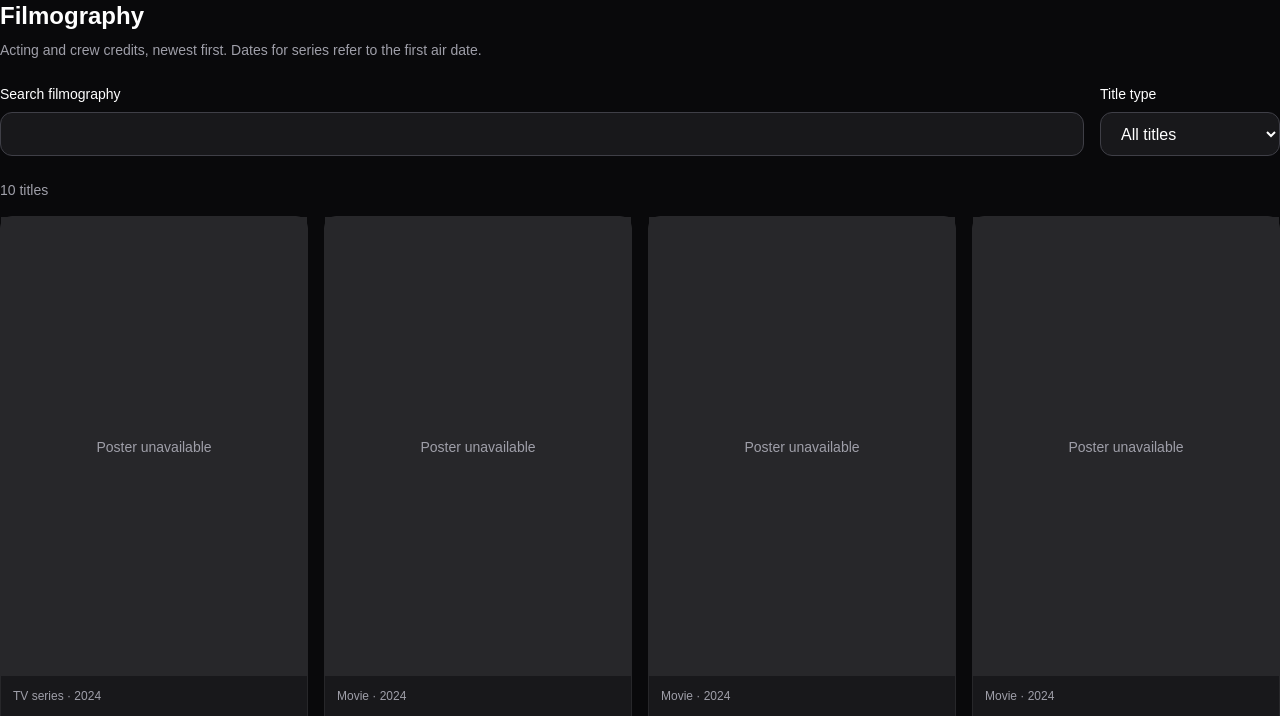
Test case: PersonFilmography › shows an empty state when no title matches
Type "No matching title" into the search field labelled "Search filmography" at x=542, y=134, box x1=0 y1=112 x2=1084 y2=156
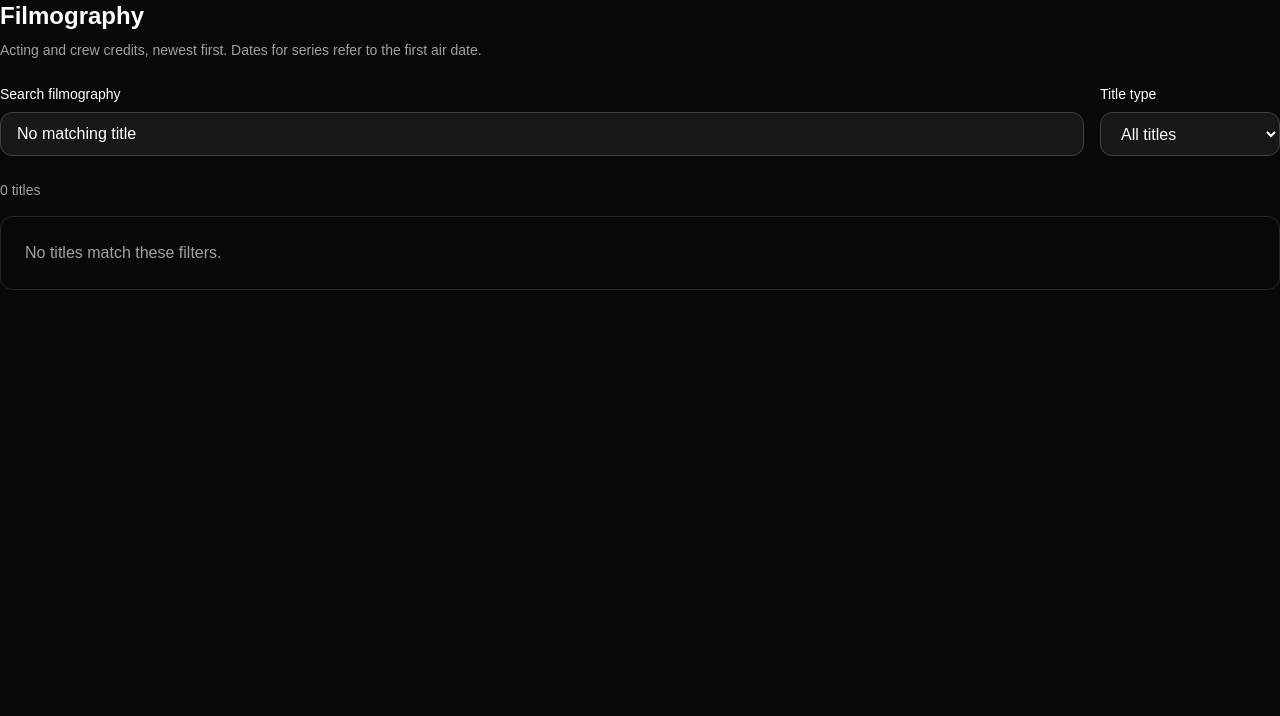
Result: the text "No titles match these filters." is shown at x1=0 y1=216 x2=1279 y2=290
